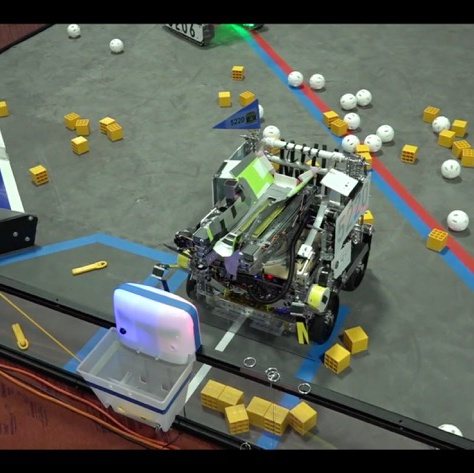robot: (169, 95, 378, 355), (159, 20, 267, 51)
